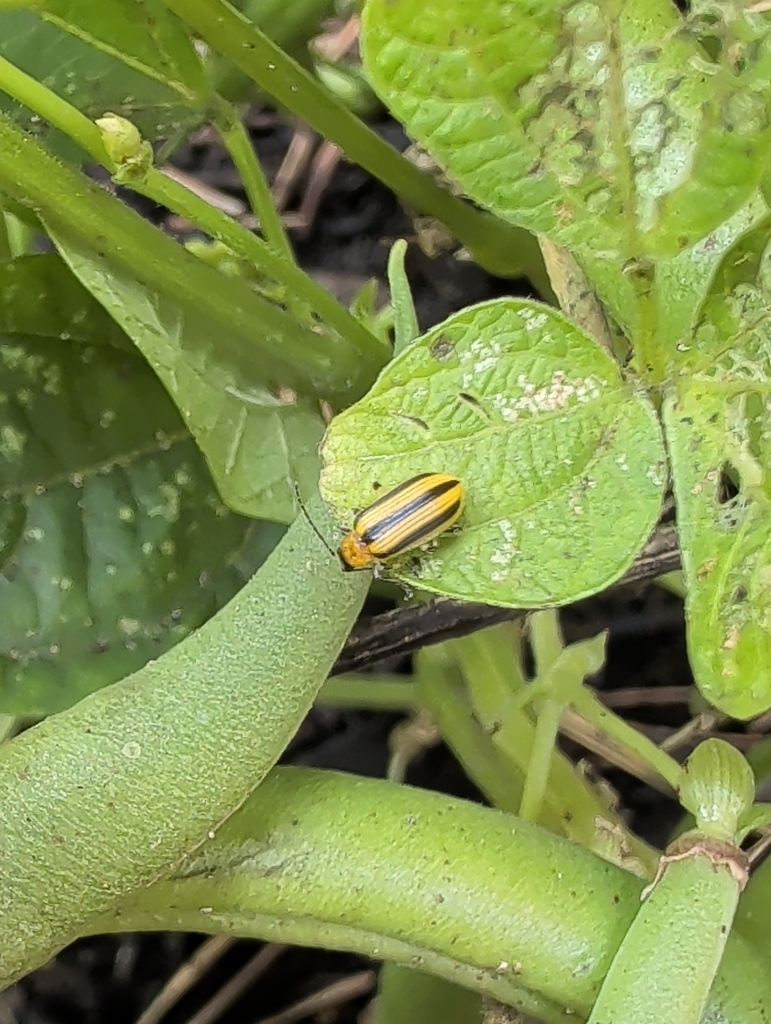potato_beetle: (270, 426, 511, 619)
